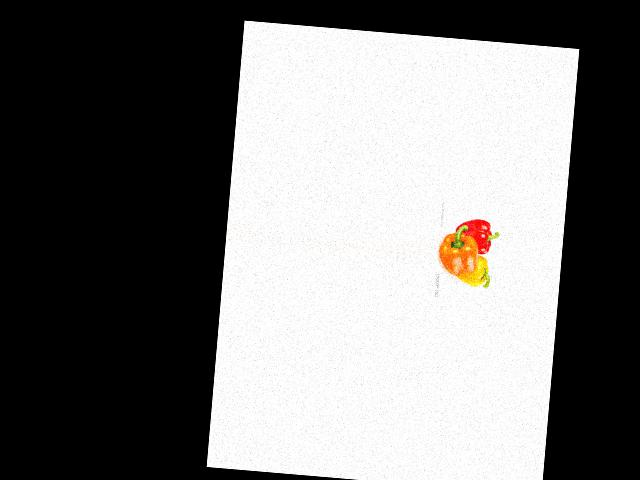bell_pepper: (454, 252, 494, 290)
